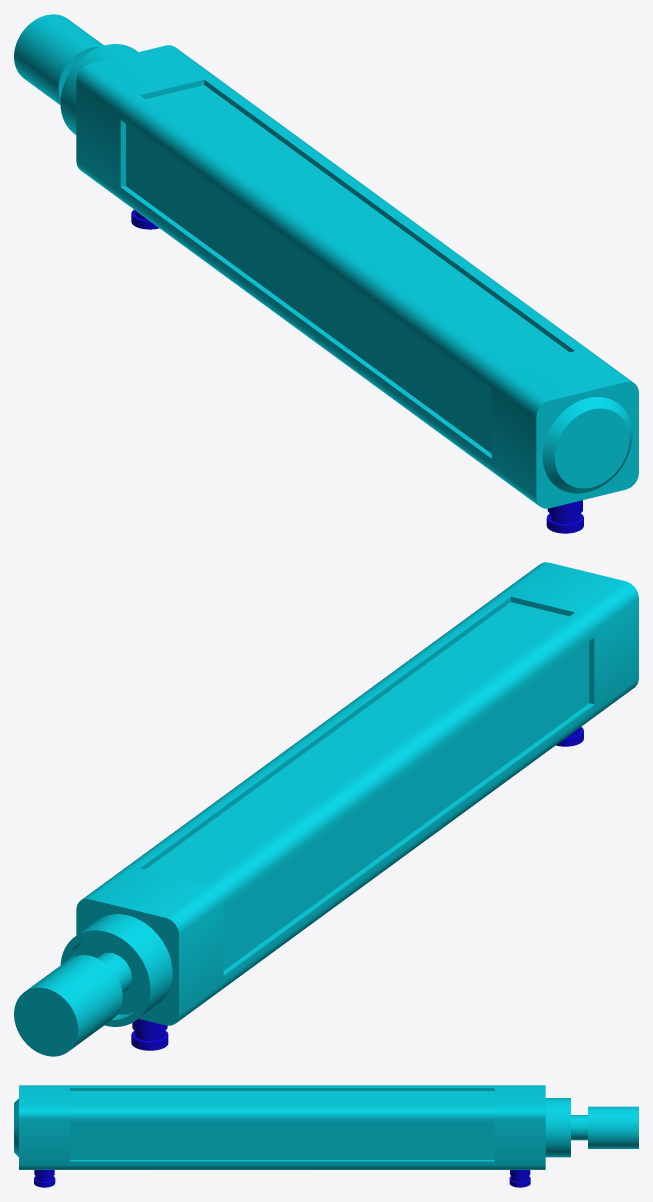
Rendered from Piston_Large.fbx.
The picture shows the model from 3 angles, top to bottom: view 1: azimuth 30°, elevation 25°; view 2: azimuth 150°, elevation 25°; view 3: azimuth 270°, elevation 25°; orthographic projection. The views are drawn at different scales.
Parts seen in each view (by area): view 1: Body, Cylinder, RacorA; view 2: Body, Cylinder, RacorB; view 3: Body, Cylinder, RacorB, RacorA.
Boxes of the visible parts, x1=… form: Body: x1=60, y1=44, x2=638, y2=508; Cylinder: x1=14, y1=14, x2=103, y2=104; RacorA: x1=546, y1=500, x2=583, y2=533; Body: x1=60, y1=562, x2=638, y2=1026; Cylinder: x1=14, y1=952, x2=131, y2=1056; RacorB: x1=131, y1=1019, x2=168, y2=1050; Body: x1=14, y1=1085, x2=570, y2=1169; Cylinder: x1=571, y1=1106, x2=638, y2=1148; RacorB: x1=509, y1=1170, x2=530, y2=1187; RacorA: x1=34, y1=1170, x2=55, y2=1187.
Size of the model in its own units: 0.4 by 0.56 by 3.68.
